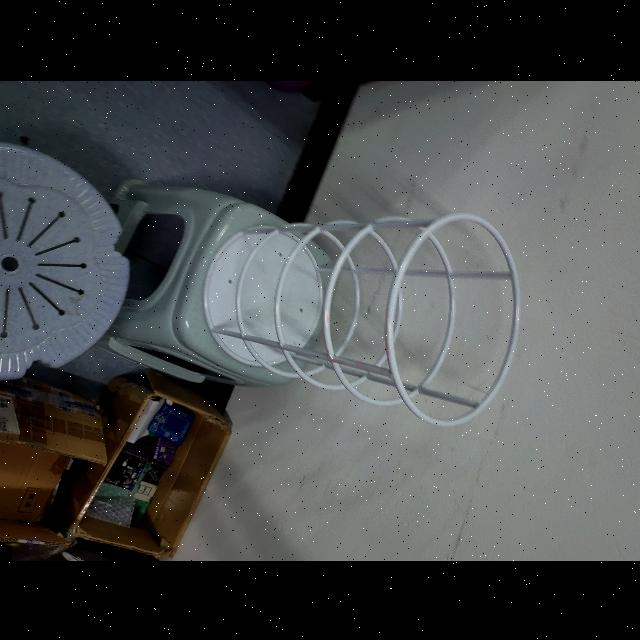S: (200, 208, 524, 430)
